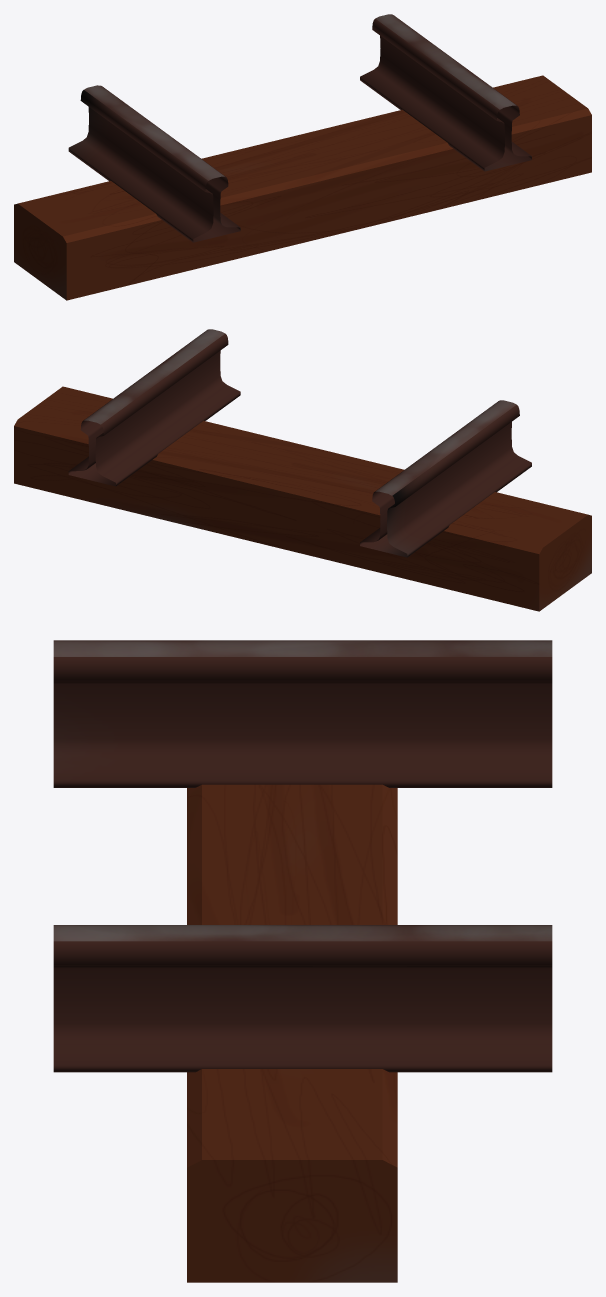
The model's file is spale.obj.
3 renders of one model, top to bottom at view 1: azimuth 30°, elevation 25°; view 2: azimuth 150°, elevation 25°; view 3: azimuth 270°, elevation 25°, orthographic. The views are drawn at different scales.
Parts seen in each view (by area): view 1: Куб.006; view 2: Куб.006; view 3: Куб.006.
Boxes of the visible parts, x1,y1,x2,y2 form: Куб.006: (14, 14, 591, 300); Куб.006: (14, 329, 591, 611); Куб.006: (53, 640, 552, 1282).
Size of the model in its own units: 2.88 by 0.6227 by 1.19.
